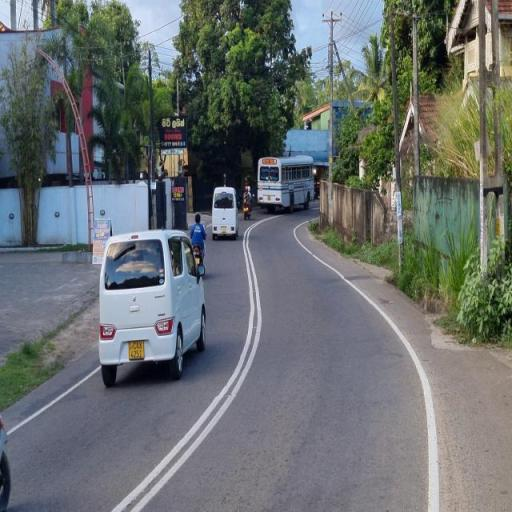double_white_line: (110, 220, 266, 510)
